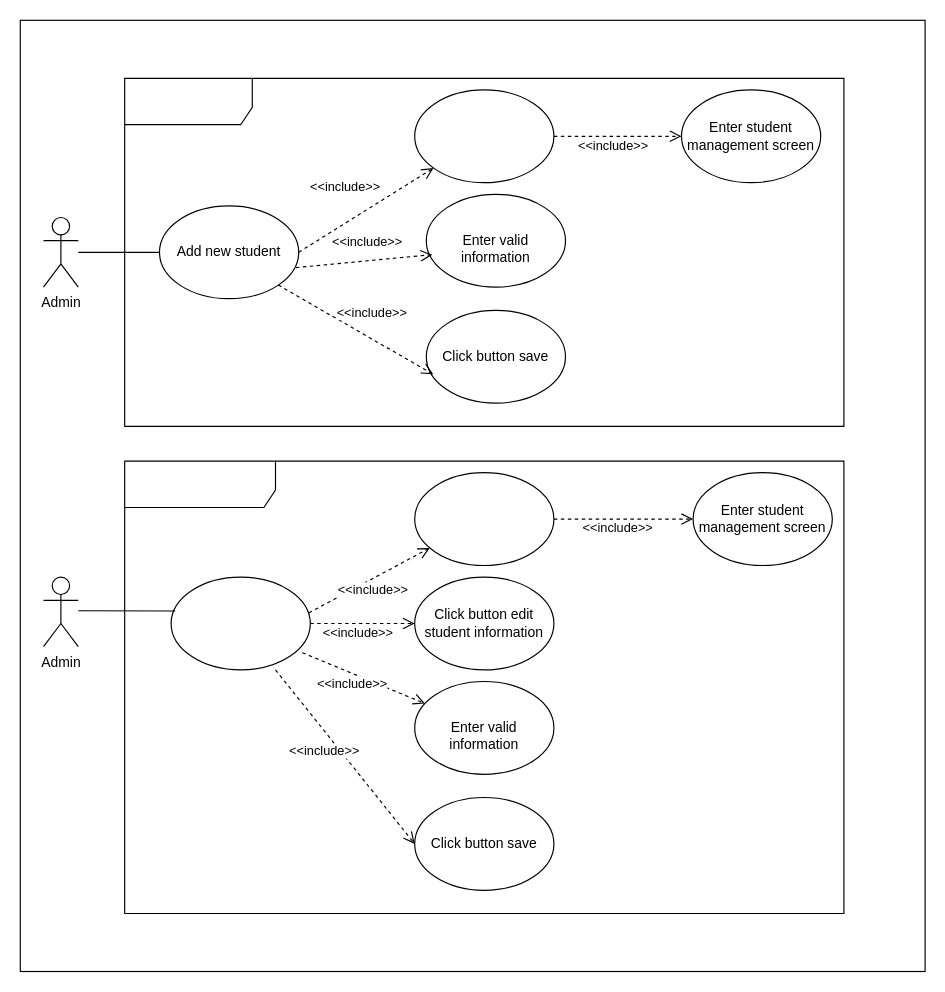
The diagram is 945 pixels wide and 992 high, and some of its shapes have lost their labels. Here are the shapes that lost their labels. From the top down, the box of each, then its label:
(414, 89, 554, 183): Click button add new student
(124, 77, 844, 426): Add new student function
(414, 472, 554, 566): Find the student need edit
(170, 576, 310, 670): Edit student information
(124, 460, 844, 913): Edit student information function
